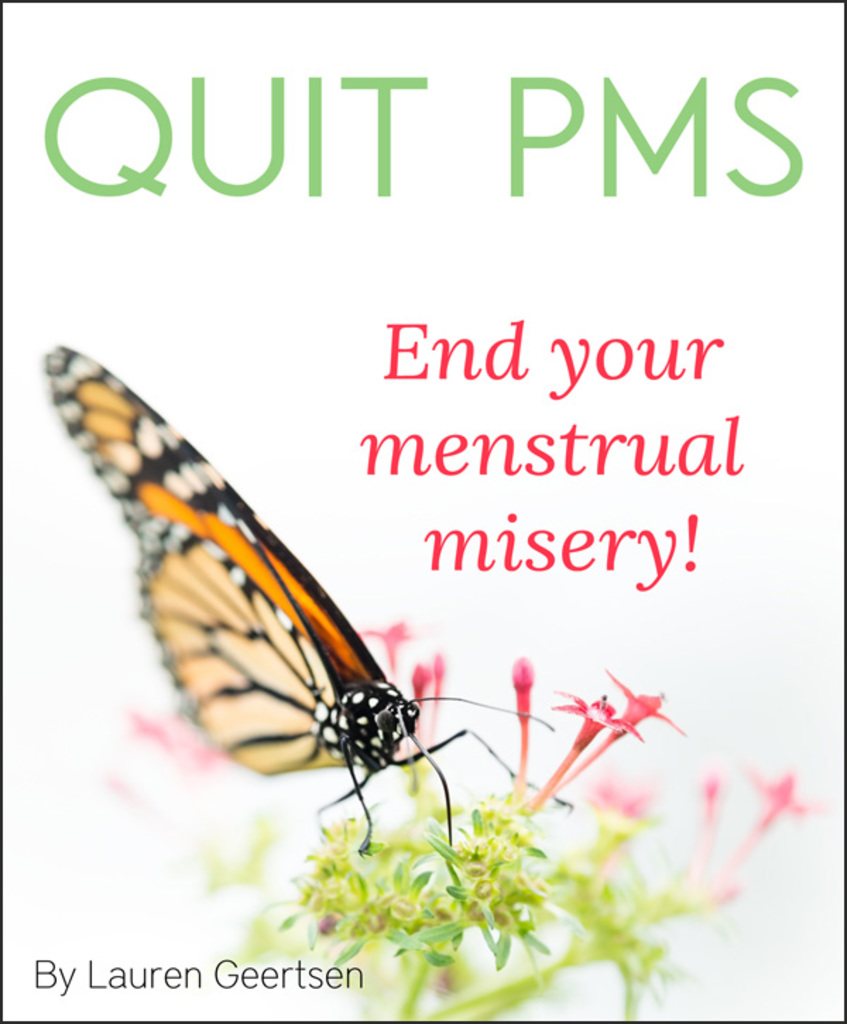Butterfly: (50, 327, 427, 847)
